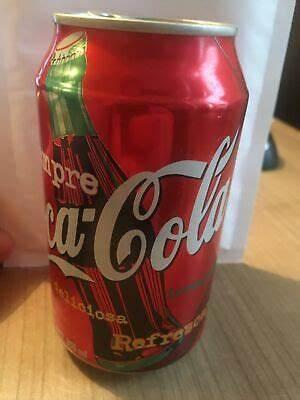metal: (36, 12, 248, 372)
